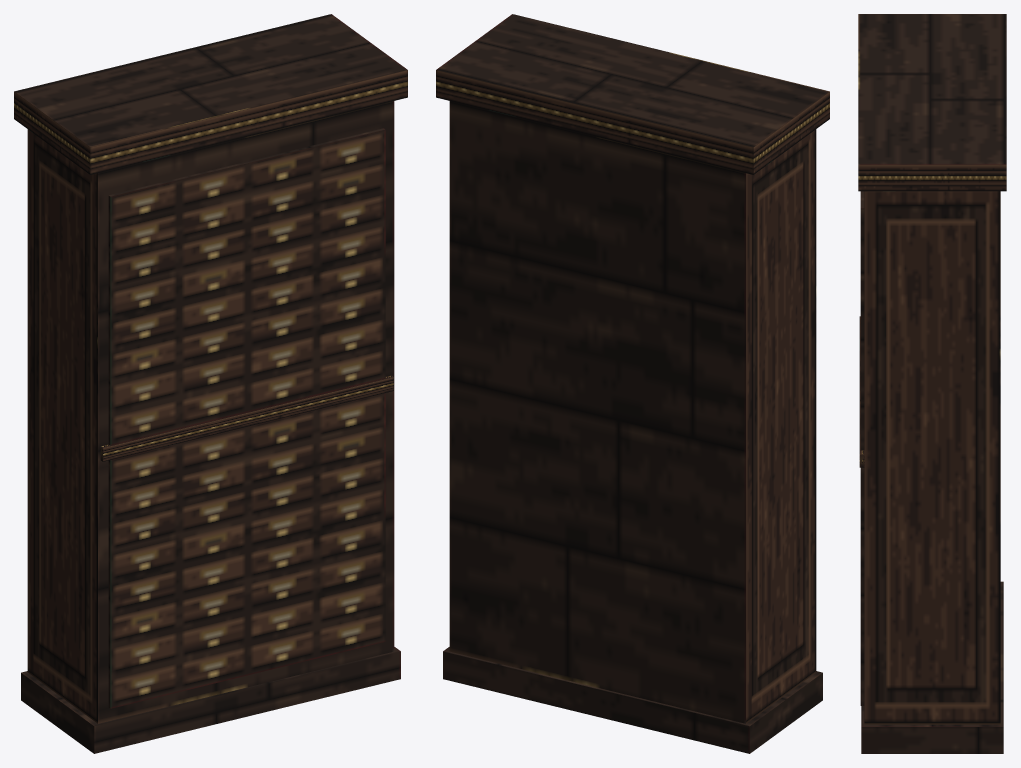
File: Furn_Cabinet_Drawers.fbx
3 views of the same model, side by side, from view 1: azimuth 30°, elevation 25°; view 2: azimuth 150°, elevation 25°; view 3: azimuth 270°, elevation 25° (orthographic). The views are drawn at different scales.
Visible parts, largest first — view 1: Furn_Cabinet_Drawers; view 2: Furn_Cabinet_Drawers; view 3: Furn_Cabinet_Drawers.
Boxes of the visible parts, box(x1,y1,x2,y2) form: Furn_Cabinet_Drawers: box(14, 14, 407, 753); Furn_Cabinet_Drawers: box(436, 14, 829, 753); Furn_Cabinet_Drawers: box(858, 14, 1006, 753).
Bounding box in the file's own units: 1.2 × 2.2 × 0.5.
